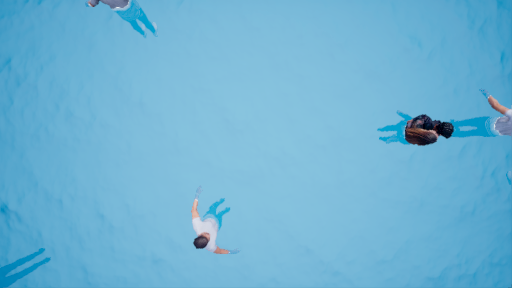person: (186, 183, 246, 260), (378, 108, 456, 155), (443, 90, 512, 140)
